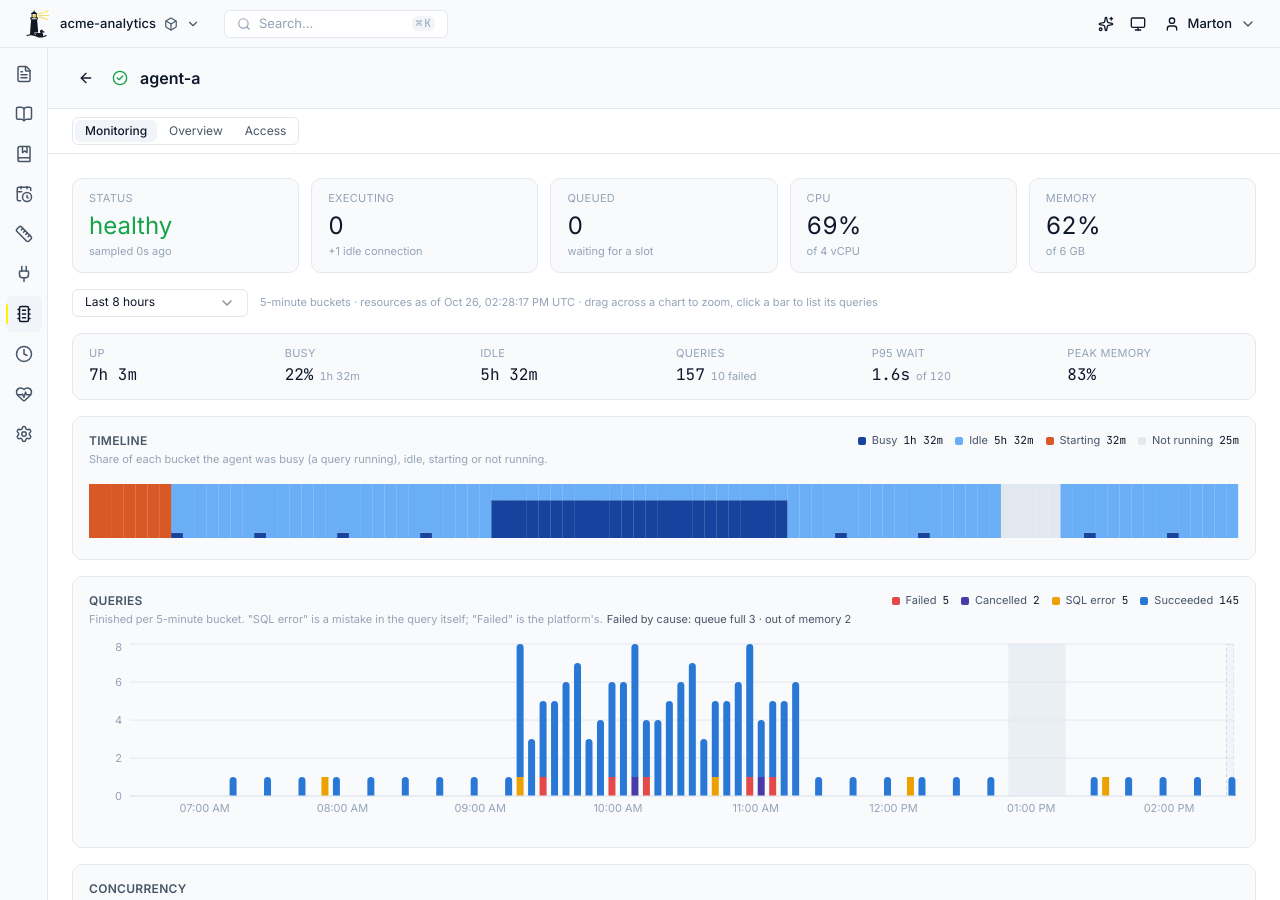
Scenario: AgentDetailPage › overview tab › shows the runtime, exact engine and whether the sandbox lock applied
Click the tab "Overview": (196, 131) [159,120,233,142]
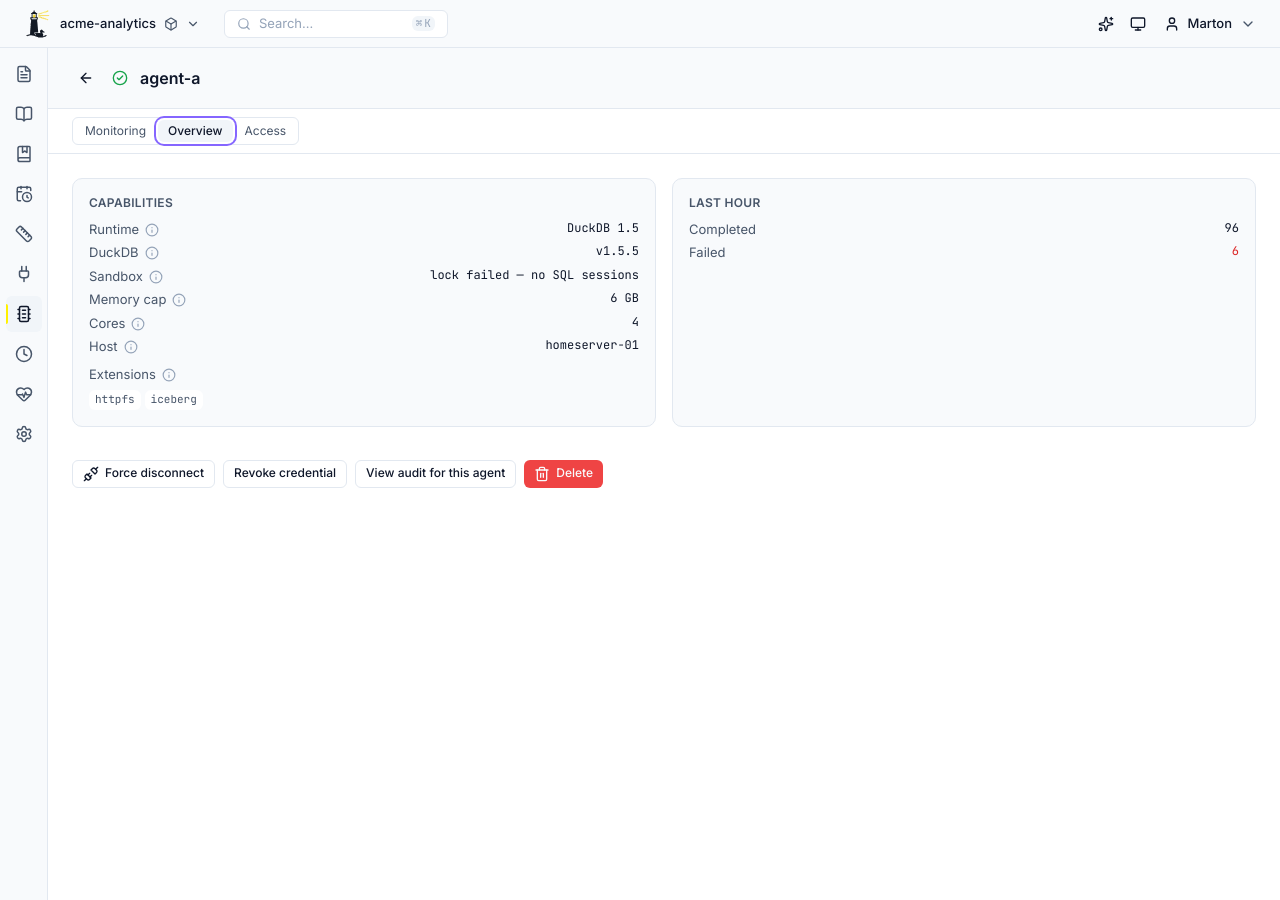
Check: the element showing "DuckDB 1.5" is shown, box [567,220,639,239]
Check: the text "v1.5.5" is shown, box [596,243,639,263]
Check: the text "lock failed — no SQL sessions" is shown, box [430,267,639,286]
